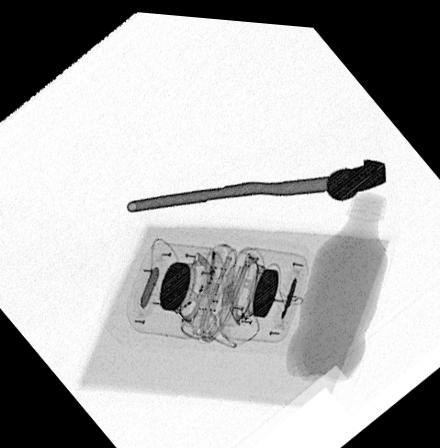Hammer: (125, 151, 386, 209)
